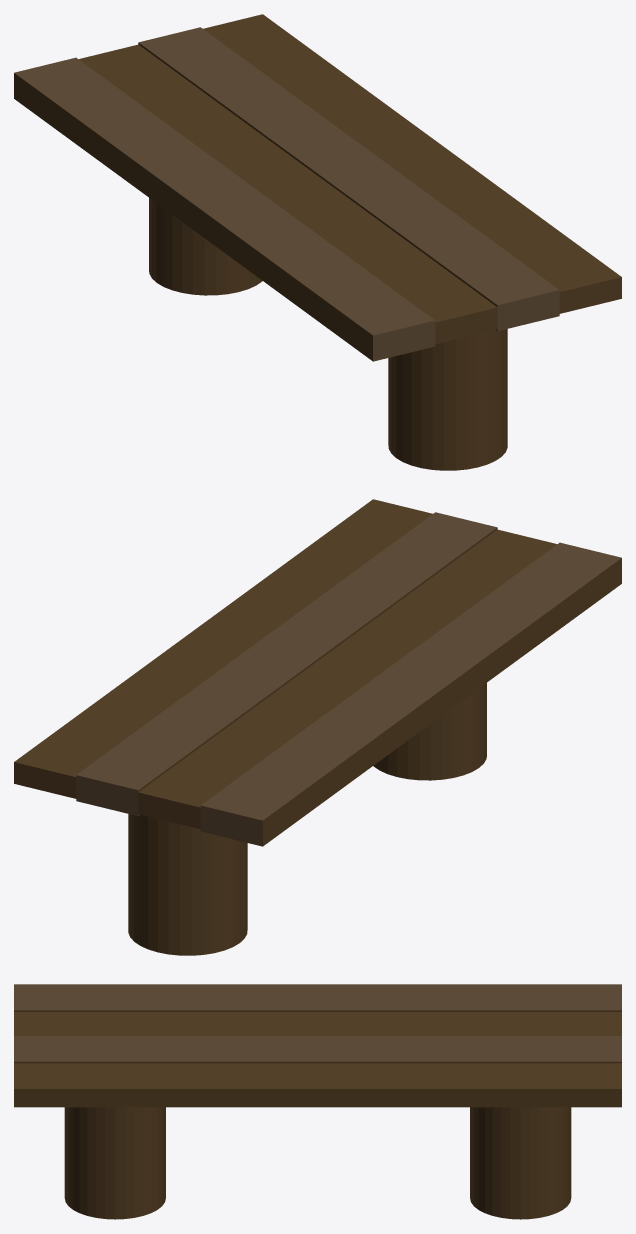
The model's file is bench.glb.
3 renders of one model, top to bottom at view 1: azimuth 30°, elevation 25°; view 2: azimuth 150°, elevation 25°; view 3: azimuth 270°, elevation 25°, orthographic. The views are drawn at different scales.
Visible parts, largest first — view 1: Cube, Цилиндр.001, Цилиндр; view 2: Cube, Цилиндр, Цилиндр.001; view 3: Cube, Цилиндр, Цилиндр.001.
Boxes of the visible parts, bbox=[...] form: Cube: bbox=[14, 14, 621, 361]; Цилиндр.001: bbox=[388, 329, 507, 470]; Цилиндр: bbox=[149, 198, 262, 295]; Cube: bbox=[14, 499, 621, 846]; Цилиндр: bbox=[128, 814, 247, 955]; Цилиндр.001: bbox=[373, 683, 486, 780]; Cube: bbox=[14, 984, 621, 1107]; Цилиндр: bbox=[470, 1107, 571, 1219]; Цилиндр.001: bbox=[64, 1107, 165, 1219].
Bounding box in the file's own units: 1.08 × 0.774 × 2.7.
